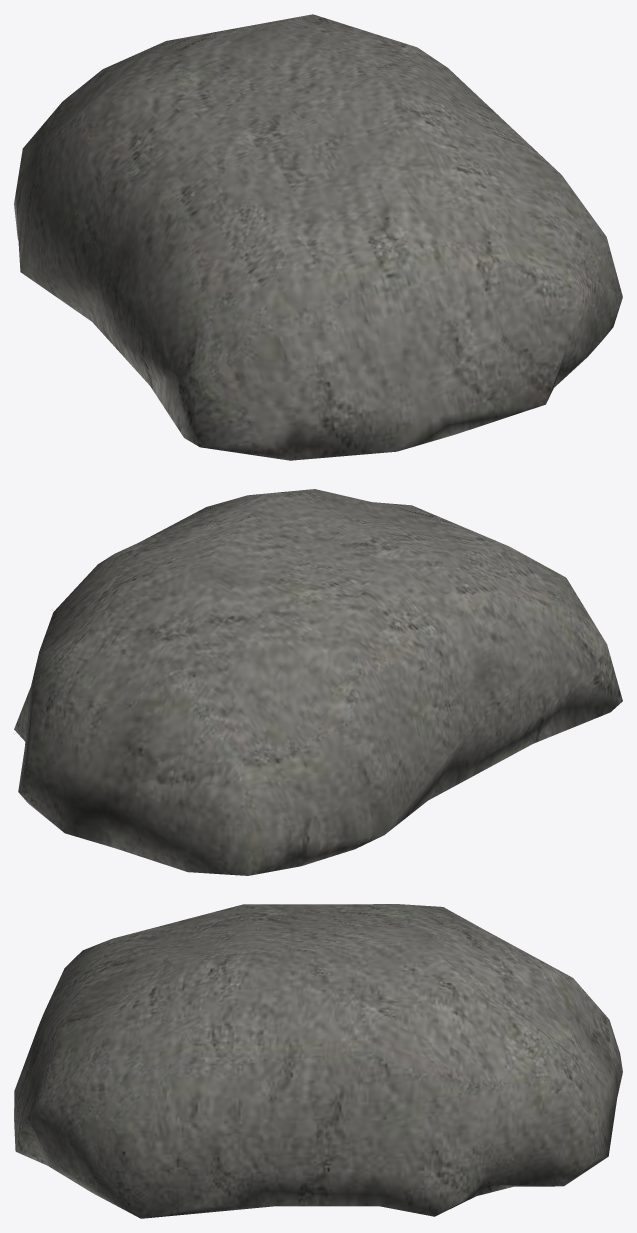
The model's file is Granite2_LOD0.FBX.
3 renders of one model, top to bottom at view 1: azimuth 30°, elevation 25°; view 2: azimuth 150°, elevation 25°; view 3: azimuth 270°, elevation 25°, orthographic. The views are drawn at different scales.
Parts seen in each view (by area): view 1: Granite2; view 2: Granite2; view 3: Granite2.
Part boxes in pixels (bbox=[...]): Granite2: bbox=[14, 14, 622, 460]; Granite2: bbox=[14, 489, 622, 875]; Granite2: bbox=[14, 904, 622, 1218].
Bounding box in the file's own units: 23.87 × 11.75 × 31.83.
Materials: 1 (1 with a texture image).
